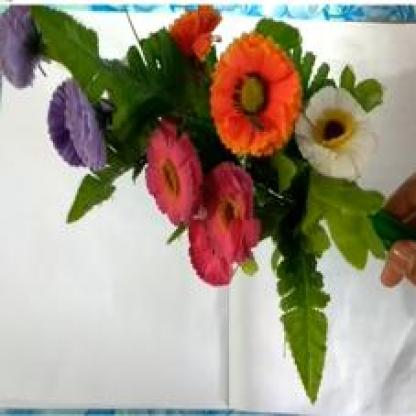flower: (17, 3, 382, 356)
